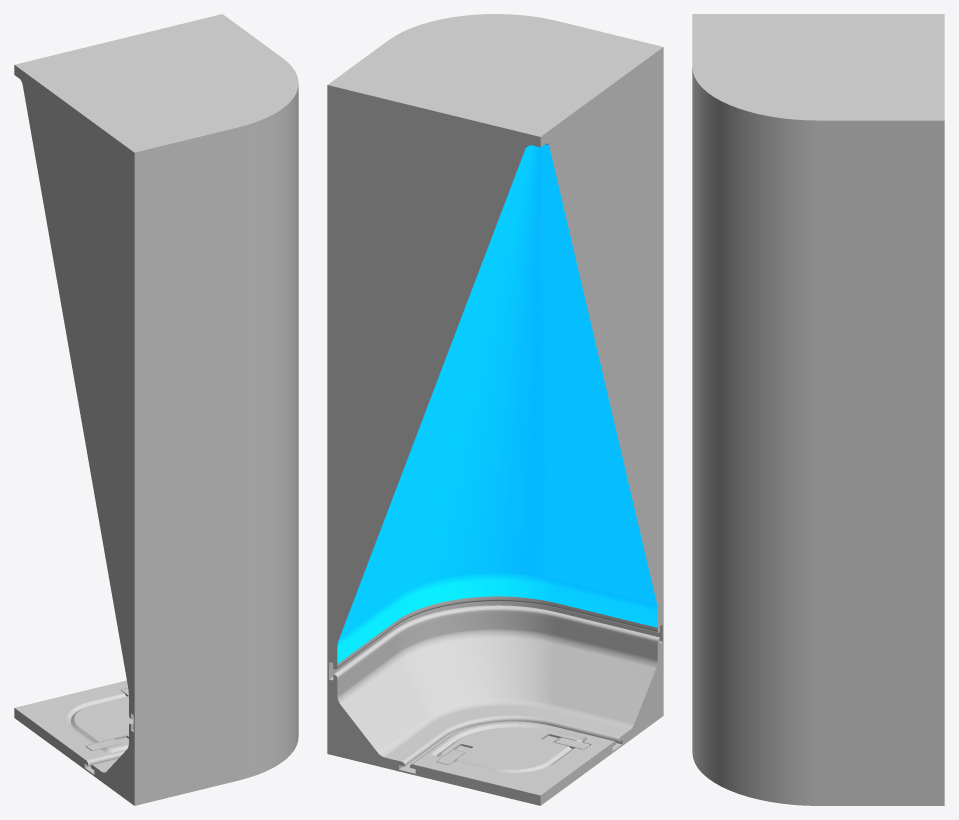
Rendered from SM_MOD_Laser_Wall_04_Crn_Cve_01.fbx.
3 views of the same model, side by side, from view 1: azimuth 30°, elevation 25°; view 2: azimuth 150°, elevation 25°; view 3: azimuth 270°, elevation 25° (orthographic). The views are drawn at different scales.
Visible parts, largest first — view 1: SM_MOD_Laser_Wall_04_Crn_Cve_01_LOD0; view 2: SM_MOD_Laser_Wall_04_Crn_Cve_01_LOD0; view 3: SM_MOD_Laser_Wall_04_Crn_Cve_01_LOD0.
Boxes of the visible parts, bbox=[...] form: SM_MOD_Laser_Wall_04_Crn_Cve_01_LOD0: bbox=[14, 14, 298, 805]; SM_MOD_Laser_Wall_04_Crn_Cve_01_LOD0: bbox=[327, 14, 663, 805]; SM_MOD_Laser_Wall_04_Crn_Cve_01_LOD0: bbox=[692, 14, 944, 805].
Size of what is drawn, in the model's own units: 256 by 768 by 256.
